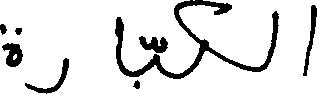X: (177, 0, 227, 83), (26, 53, 68, 93), (0, 19, 21, 71), (306, 0, 316, 80), (267, 6, 277, 71), (116, 12, 121, 76), (153, 32, 156, 71)
